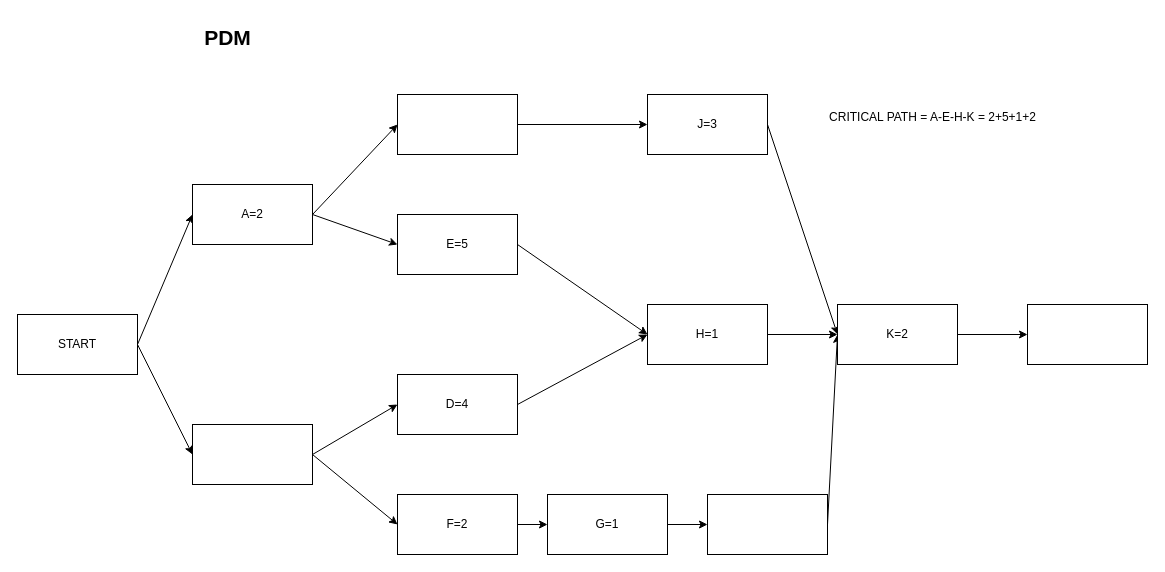
The diagram is 1165 pixels wide and 572 high, and some of its shapes have lost their labels. The centre of each missing label's shape, as x and y in pixels:
"B=2" belongs at [252,454].
"C=3" belongs at [457,124].
"FINISH" belongs at [1087,334].
"I=2" belongs at [767,524].
